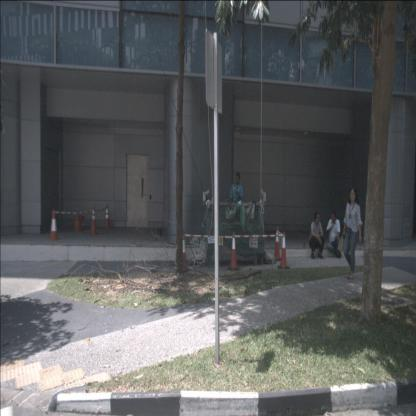cone: (227, 232, 241, 271), (277, 231, 290, 270), (47, 209, 61, 241), (179, 233, 189, 270), (272, 226, 282, 261), (88, 206, 100, 235), (102, 204, 112, 229)
